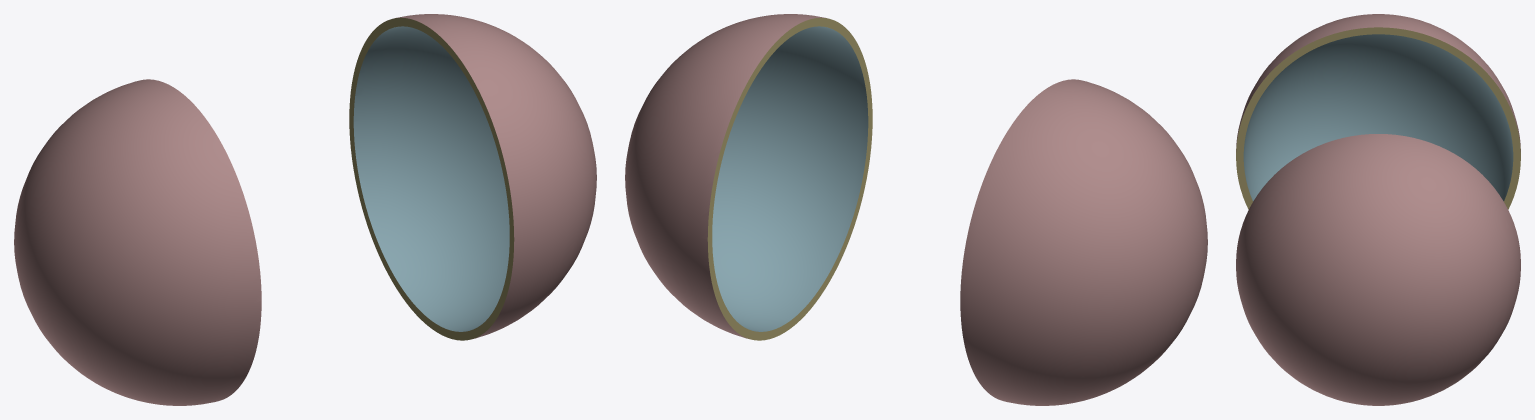
File: planet.fbx
3 renders of one model, left to right at view 1: azimuth 30°, elevation 25°; view 2: azimuth 150°, elevation 25°; view 3: azimuth 270°, elevation 25°, orthographic. The views are drawn at different scales.
Parts seen in each view (by area): view 1: pSphere9, pSphere10; view 2: pSphere9, pSphere10; view 3: pSphere10, pSphere9.
Part boxes in pixels (x1,y1,x2,y2): pSphere9: (14,79,261,405); pSphere10: (349,14,596,340); pSphere9: (960,79,1207,405); pSphere10: (625,14,872,340); pSphere10: (1236,134,1520,405); pSphere9: (1236,14,1520,209).
Bounding box in the file's own units: 32.66 × 17.35 × 17.32.
